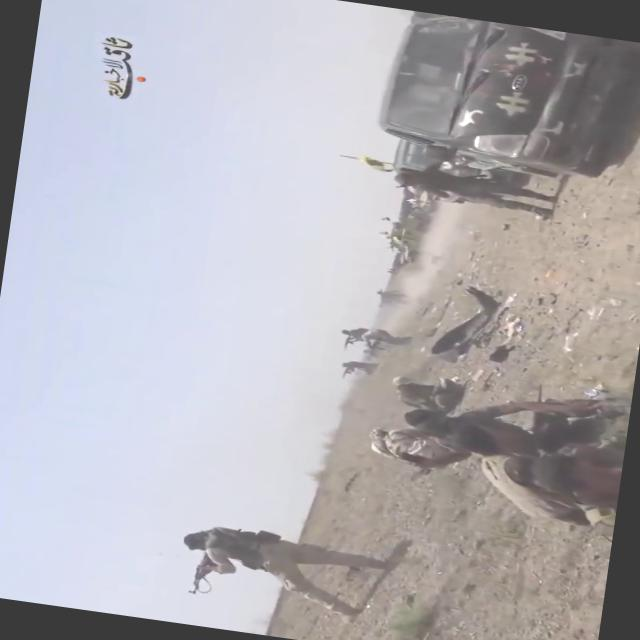long weapon: (181, 548, 230, 604)
